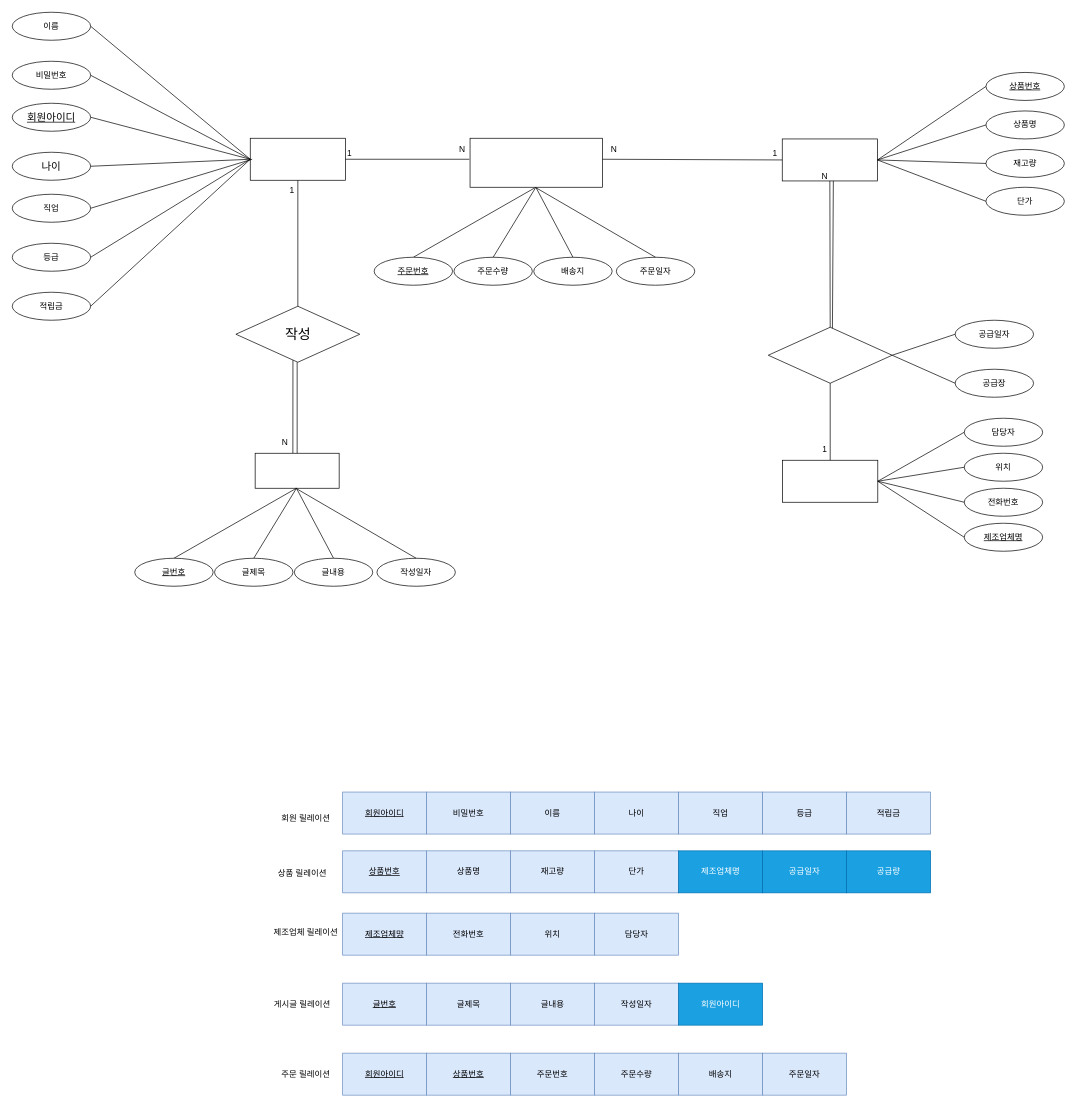
Some shapes in this 1077 by 1107 pixel diagram are drawn without their labels. The box of each missing label's shape, as (x1, y1, x2, y2) in pixels:
게시글: (254, 453, 339, 488)
공급: (768, 327, 892, 383)
상품: (782, 138, 877, 181)
제조업체: (782, 460, 878, 502)
주문: (469, 138, 602, 187)
회원: (250, 138, 345, 180)
